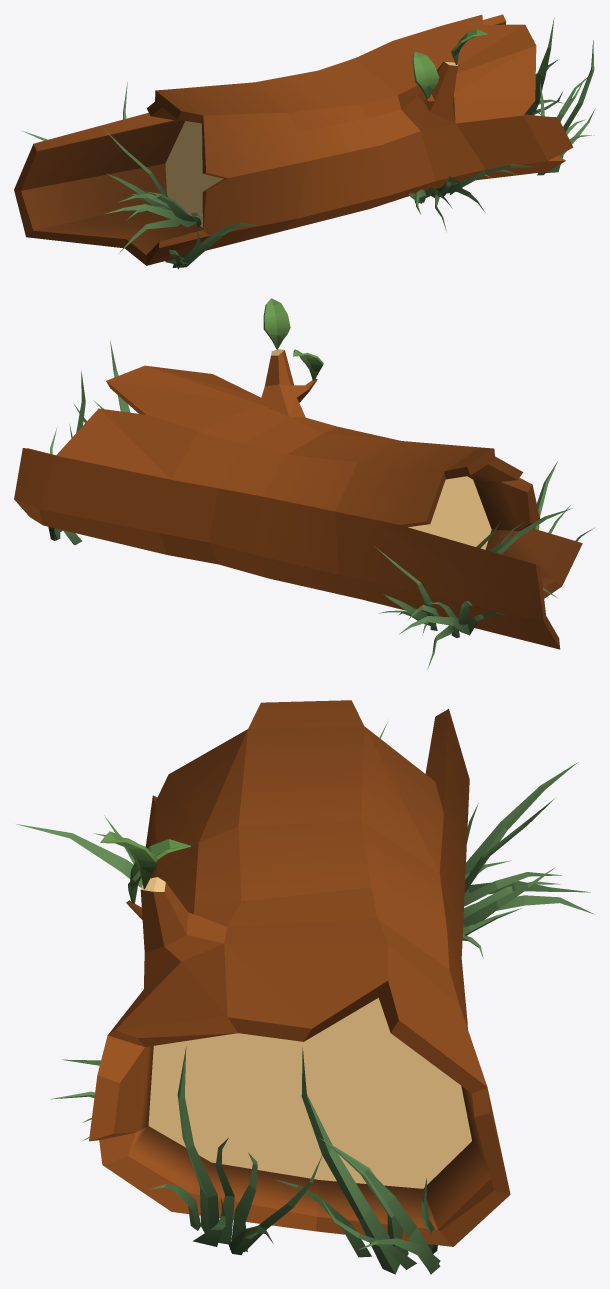
Rendered from TreeLog_B-01.fbx.
The picture shows the model from 3 angles, top to bottom: view 1: azimuth 30°, elevation 25°; view 2: azimuth 150°, elevation 25°; view 3: azimuth 270°, elevation 25°; orthographic projection. The views are drawn at different scales.
Visible parts, largest first — view 1: TreeLog_B-01; view 2: TreeLog_B-01; view 3: TreeLog_B-01.
Part boxes in pixels (<box>): TreeLog_B-01: <box>14,14,594,269</box>; TreeLog_B-01: <box>14,298,593,669</box>; TreeLog_B-01: <box>16,700,594,1274</box>.
Size of the model in its own units: 2831 by 1017 by 1570.
